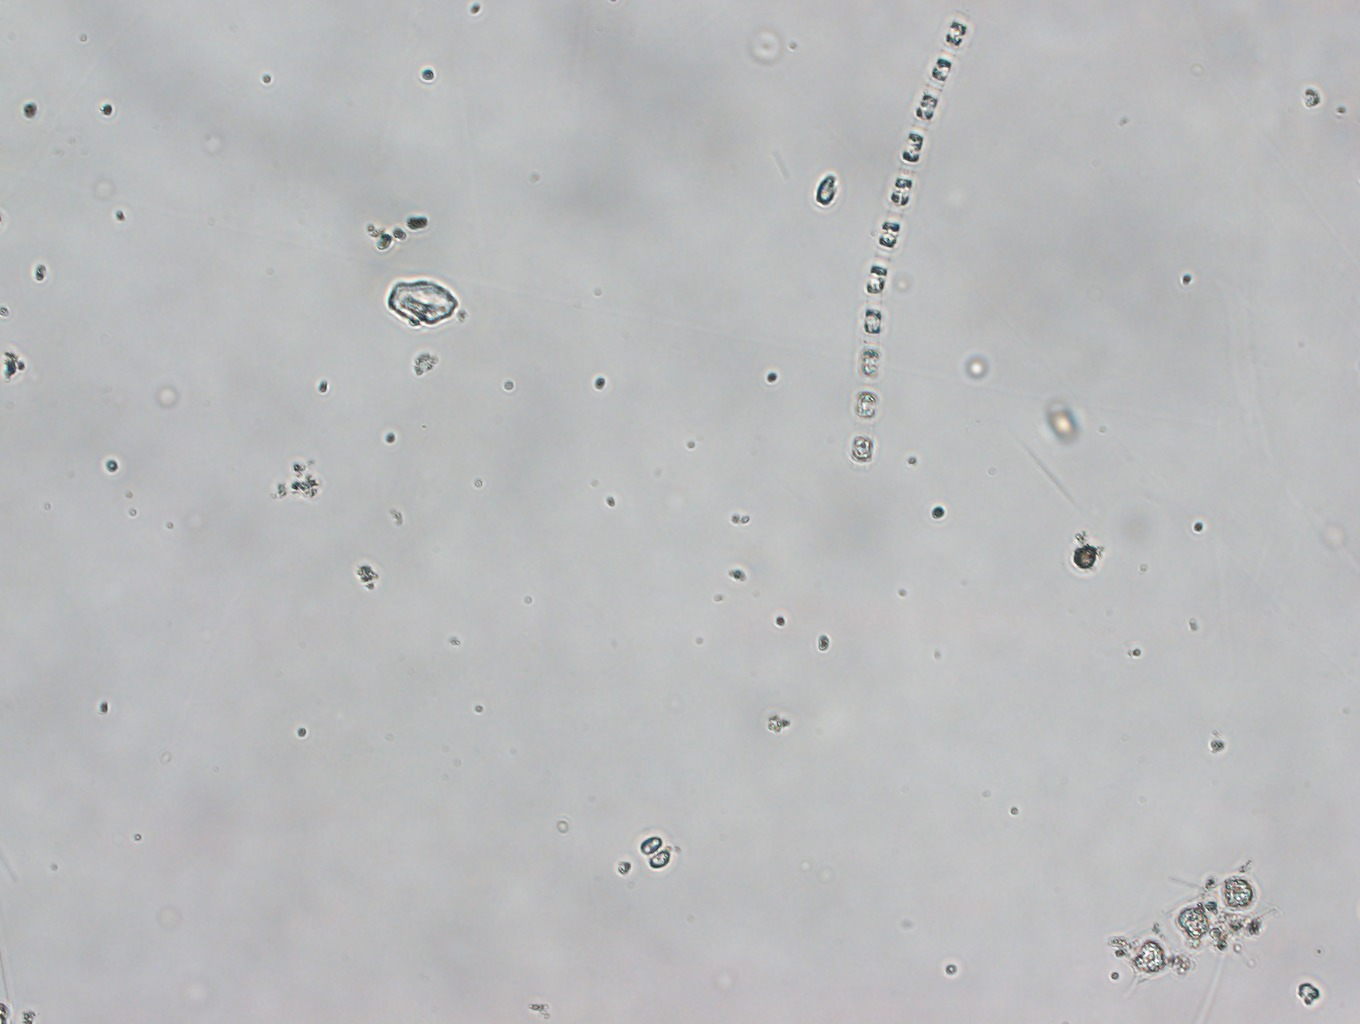skeletonema: (830, 19, 978, 473)
